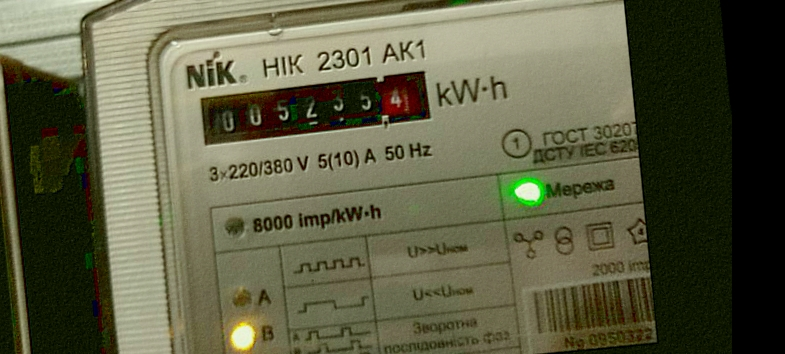0: (219, 106, 236, 133), (247, 102, 264, 127)
2: (301, 92, 320, 120)
3: (328, 86, 347, 113)
4: (385, 81, 406, 111)
5: (355, 83, 374, 112), (274, 96, 291, 122)
screen: (186, 59, 441, 155)
